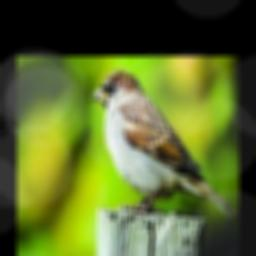Sparrow: (91, 71, 236, 218)
